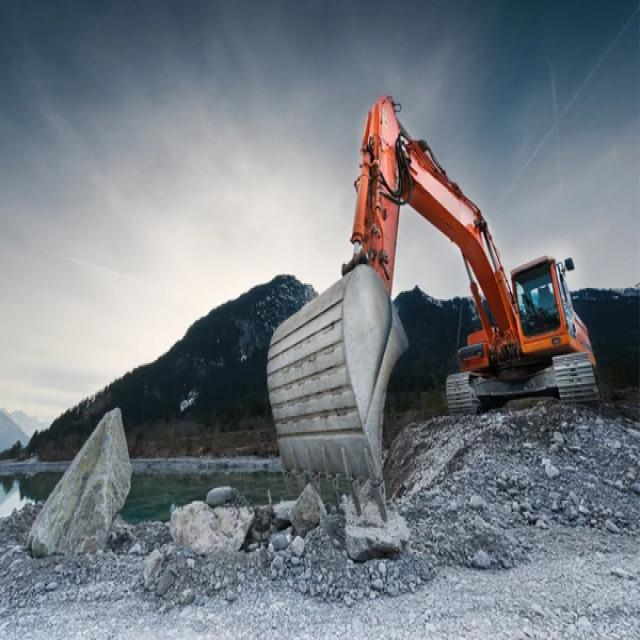C_E: (263, 90, 605, 524)
